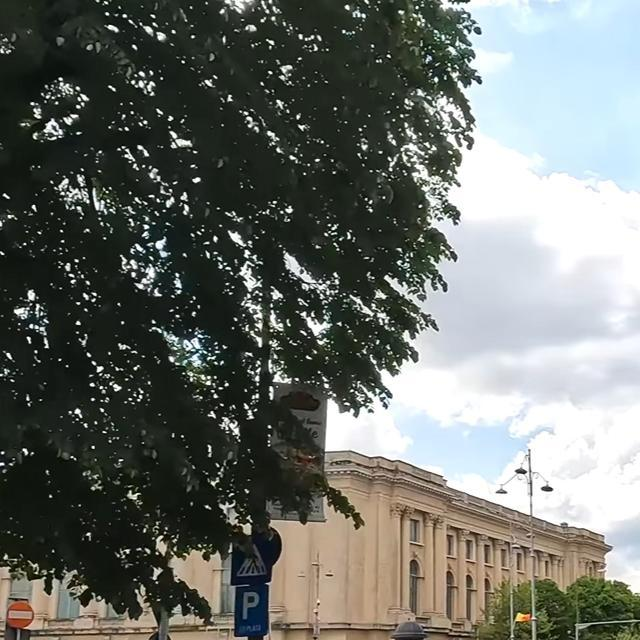info_crosswalk: (229, 534, 274, 585)
